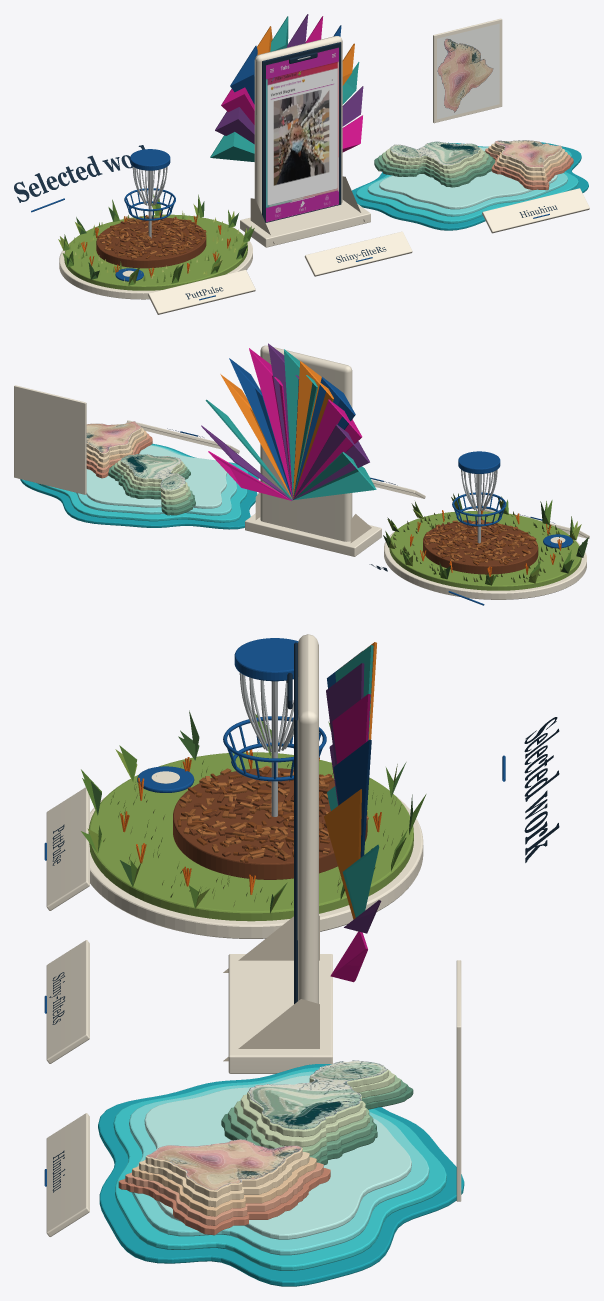
The model's file is work.glb.
3 renders of one model, top to bottom at view 1: azimuth 30°, elevation 25°; view 2: azimuth 150°, elevation 25°; view 3: azimuth 270°, elevation 25°, orthographic. The views are drawn at different scales.
Visible parts, largest first — view 1: Original application screen, Putting green layered grass, Altitude chart image, Mulch chip.002, Layered ocean contour.003, Phone cradle, Project nameplate PuttPulse, Project nameplate Hinuhinu, Project nameplate Shiny-filteRs, Shiny-filteRs phone shell, Phone dark bezel, Folded filter fan.002 (+27 smaller); view 2: Standing Hinuhinu chart, Putting green layered grass, Shiny-filteRs phone shell, Folded filter fan, Folded filter fan.002, Mulch chip.002, Layered ocean contour.003, Folded filter fan.001, Folded filter fan.003, Folded filter fan.004, Disc embossed center, Layered ocean contour (+23 smaller); view 3: Putting green layered grass, Layered ocean contour.003, Layered ocean contour, Layered ocean contour.001, Mulch chip.002, Phone cradle, Shiny-filteRs phone shell, Layered ocean contour.002, Disc embossed center, Maui printed map, Basket blue top band, Project nameplate Hinuhinu (+27 smaller).
Boxes of the visible parts, box(x1,y1,x2,y2) form: Original application screen: box(266, 47, 338, 222); Putting green layered grass: box(64, 214, 247, 290); Altitude chart image: box(437, 23, 499, 119); Mulch chip.002: box(96, 216, 206, 268); Layered ocean contour.003: box(379, 147, 557, 209); Phone cradle: box(240, 200, 370, 247); Project nameplate PuttPulse: box(148, 270, 255, 314); Project nameplate Hinuhinu: box(482, 188, 589, 233); Project nameplate Shiny-filteRs: box(304, 231, 412, 276); Shiny-filteRs phone shell: box(254, 36, 342, 213); Phone dark bezel: box(262, 42, 386, 262); Folded filter fan.002: box(210, 16, 359, 161); Standing Hinuhinu chart: box(14, 385, 86, 494); Putting green layered grass: box(389, 511, 581, 590); Shiny-filteRs phone shell: box(260, 345, 352, 541); Folded filter fan: box(208, 348, 362, 500); Folded filter fan.002: box(205, 349, 376, 500); Mulch chip.002: box(423, 520, 538, 574); Layered ocean contour.003: box(86, 445, 227, 508); Folded filter fan.001: box(201, 343, 369, 500); Folded filter fan.003: box(220, 361, 333, 498); Folded filter fan.004: box(229, 358, 355, 498); Disc embossed center: box(384, 531, 586, 599); Layered ocean contour: box(20, 443, 258, 529); Putting green layered grass: box(88, 752, 413, 921); Layered ocean contour.003: box(144, 1075, 411, 1239); Layered ocean contour: box(98, 1064, 464, 1286); Layered ocean contour.001: box(113, 1067, 446, 1270); Mulch chip.002: box(173, 768, 367, 879); Phone cradle: box(228, 954, 332, 1073); Shiny-filteRs phone shell: box(297, 634, 318, 1003); Layered ocean contour.002: box(129, 1071, 429, 1255); Disc embossed center: box(90, 771, 423, 938); Maui printed map: box(248, 1060, 387, 1129); Basket blue top band: box(44, 638, 326, 860); Project nameplate Hinuhinu: box(46, 1113, 89, 1236).
Bounding box in the file's own units: 10.13 × 3.56 × 4.34.
35 materials, 2 textured.
